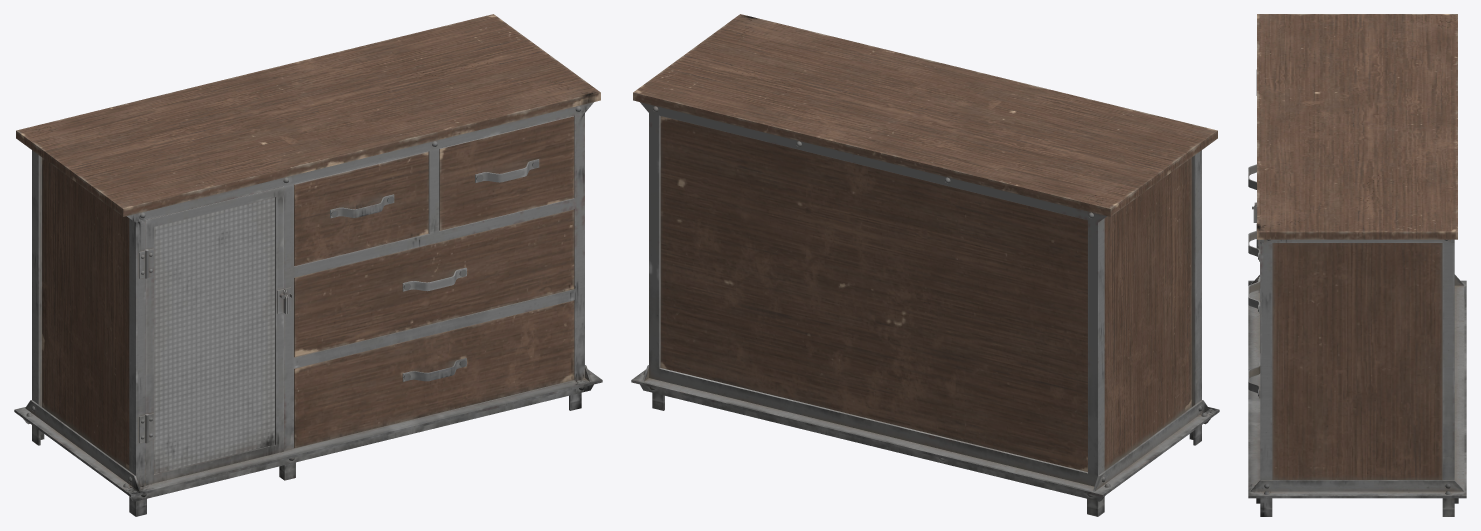
The model's file is WoodenTable.fbx.
3 views of the same model, side by side, from view 1: azimuth 30°, elevation 25°; view 2: azimuth 150°, elevation 25°; view 3: azimuth 270°, elevation 25° (orthographic). The views are drawn at different scales.
Visible parts, largest first — view 1: WoodenTable_03_body, WoodenTable_03_door, WoodenTable_03_drawer03, WoodenTable_03_drawer04, WoodenTable_03_drawer02, WoodenTable_03_drawer01; view 2: WoodenTable_03_body; view 3: WoodenTable_03_body.
Boxes of the visible parts, <box> form: WoodenTable_03_body: <box>14,14,602,516</box>; WoodenTable_03_door: <box>145,186,292,485</box>; WoodenTable_03_drawer03: <box>294,209,574,357</box>; WoodenTable_03_drawer04: <box>294,300,574,448</box>; WoodenTable_03_drawer02: <box>439,116,574,230</box>; WoodenTable_03_drawer01: <box>294,151,428,266</box>; WoodenTable_03_body: <box>631,14,1219,516</box>; WoodenTable_03_body: <box>1248,14,1466,516</box>.
Size of the model in its own units: 133 by 83.01 by 56.17.
